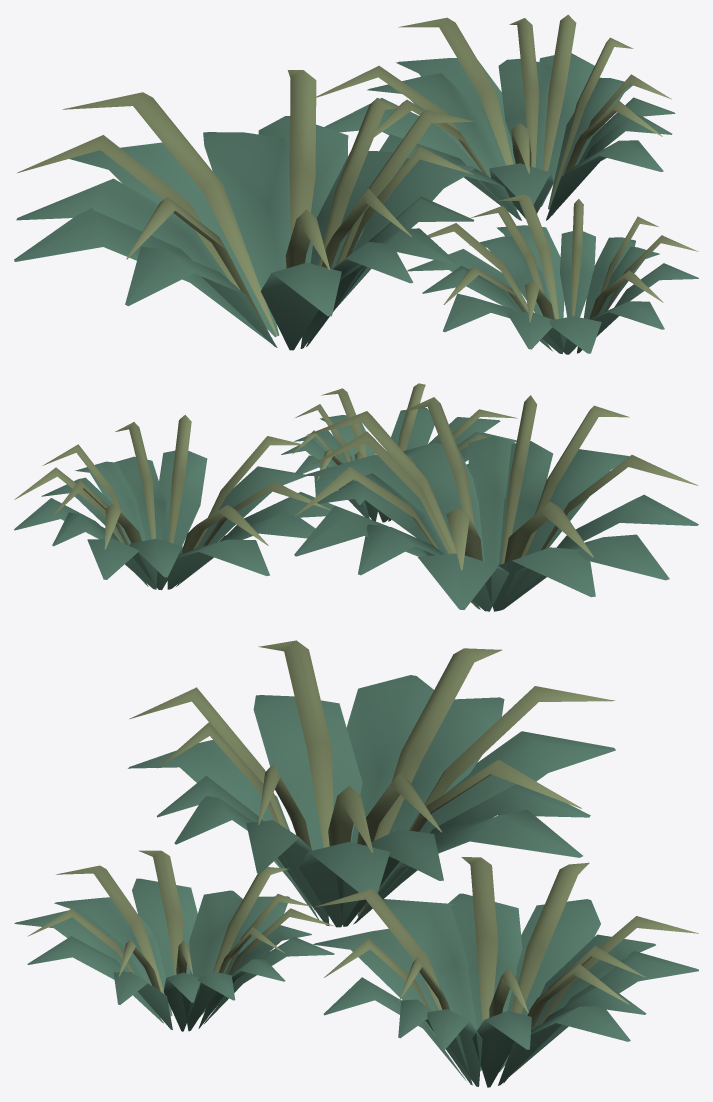
Rendered from skyreach-wind-garden-v1.glb.
3 renders of one model, top to bottom at view 1: azimuth 30°, elevation 25°; view 2: azimuth 150°, elevation 25°; view 3: azimuth 270°, elevation 25°, orthographic. The views are drawn at different scales.
Visible parts, largest first — view 1: GB_GARDEN_Leaves, GB_GARDEN_Grass; view 2: GB_GARDEN_Leaves, GB_GARDEN_Grass; view 3: GB_GARDEN_Leaves, GB_GARDEN_Grass.
Part boxes in pixels (box(x1,y1,x2,y2)): GB_GARDEN_Leaves: box(14, 53, 698, 354); GB_GARDEN_Grass: box(17, 14, 698, 348); GB_GARDEN_Leaves: box(14, 407, 698, 611); GB_GARDEN_Grass: box(14, 383, 697, 584); GB_GARDEN_Leaves: box(14, 675, 698, 1087); GB_GARDEN_Grass: box(27, 640, 698, 1075).
Size of the model in its own units: 2.23 by 0.613 by 1.86.
